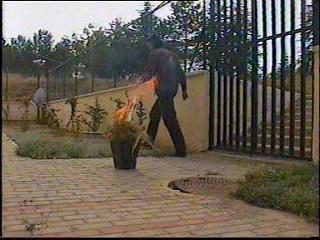fire: (114, 85, 148, 128)
